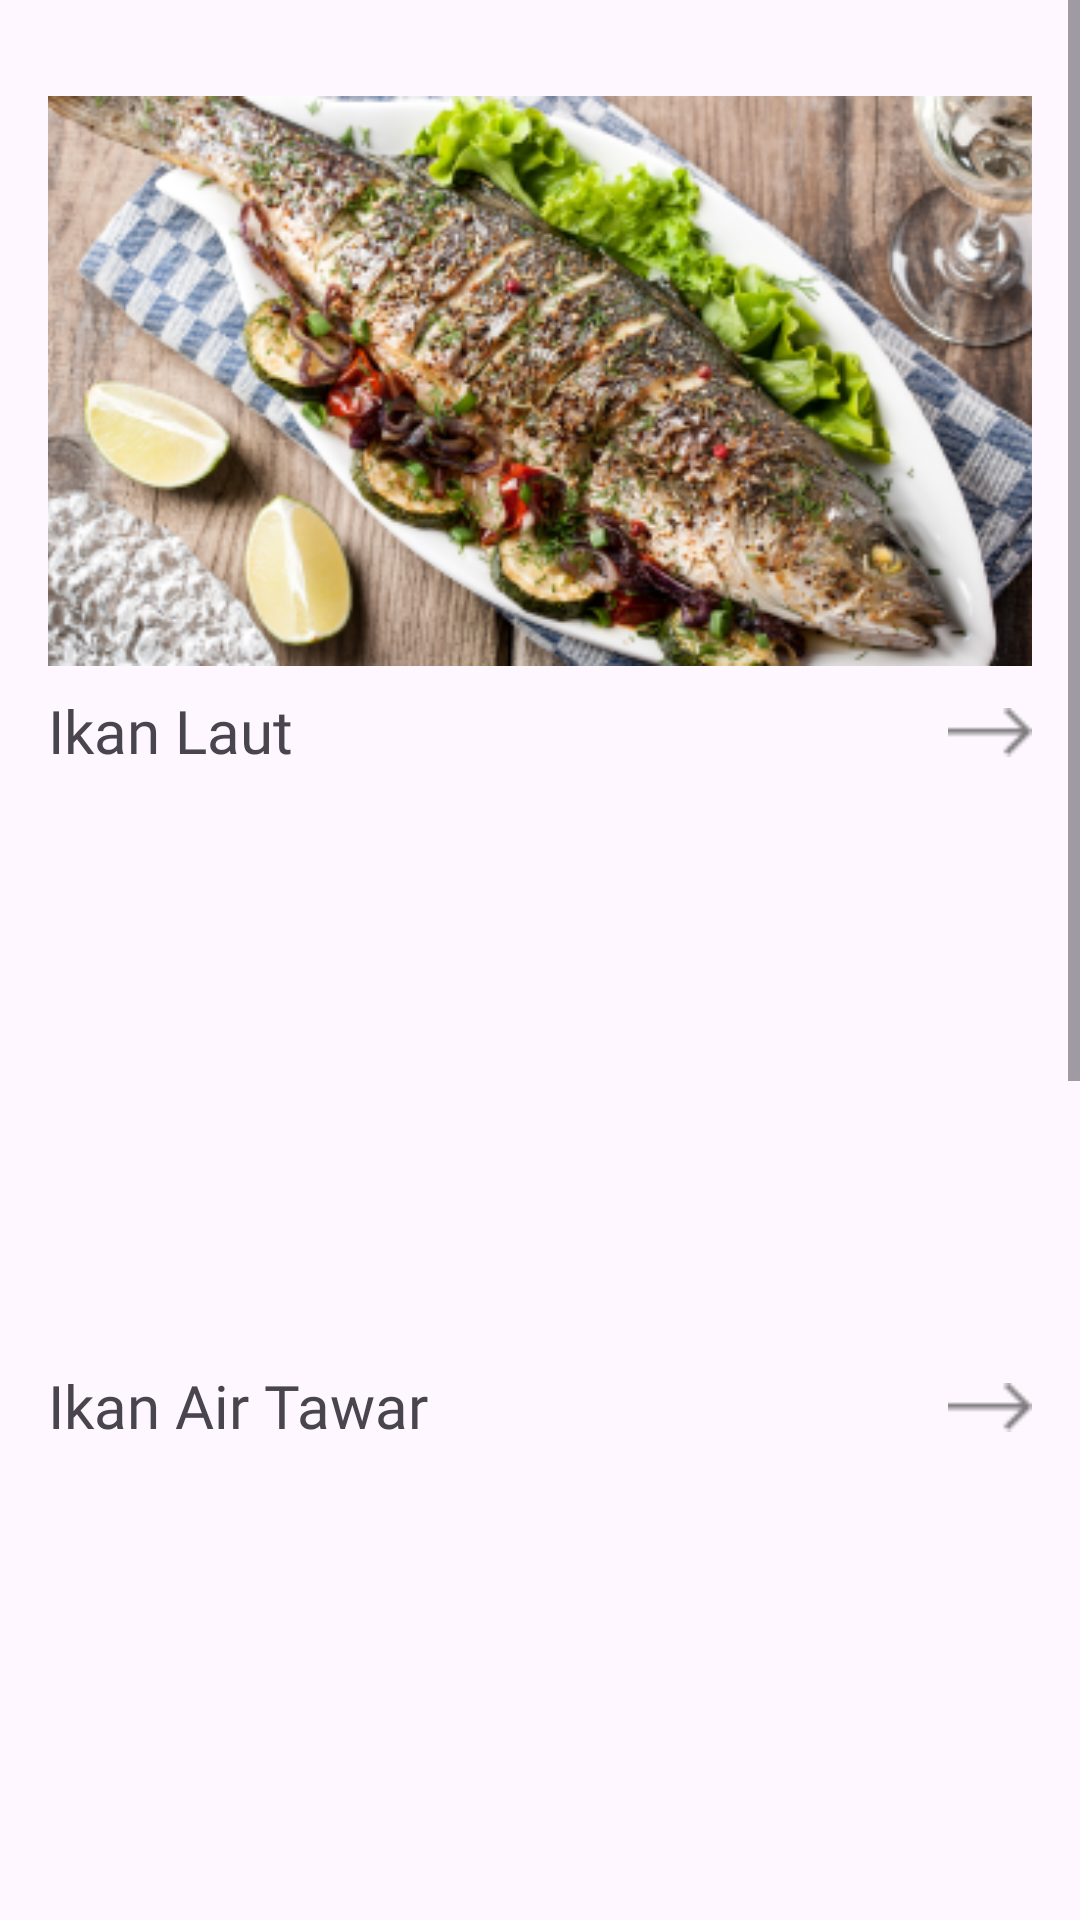

Screen size 1080 x 1920. Icon name, then its center in pixels as (x,y):
arrow right: (990,732), (990,1407)
